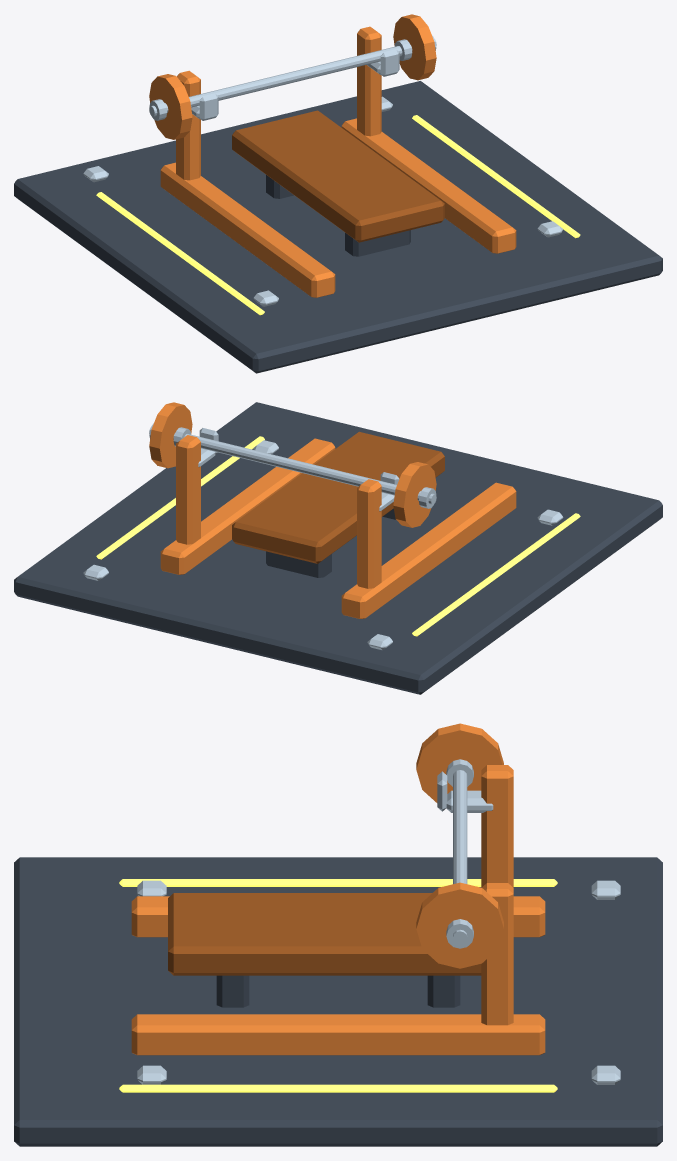
Rendered from Industrial.fbx.
The picture shows the model from 3 angles, top to bottom: view 1: azimuth 30°, elevation 25°; view 2: azimuth 150°, elevation 25°; view 3: azimuth 270°, elevation 25°; orthographic projection. The views are drawn at different scales.
Visible parts, largest first — view 1: Body, Barbell; view 2: Body, Barbell; view 3: Body, Barbell.
Boxes of the visible parts, left/top/right/bottom form: Body: left=14, top=26, right=662, bottom=373; Barbell: left=149, top=14, right=436, bottom=139; Body: left=14, top=402, right=662, bottom=694; Barbell: left=149, top=402, right=436, bottom=527; Body: left=14, top=765, right=662, bottom=1146; Barbell: left=416, top=723, right=503, bottom=968.
Size of the model in its own units: 390 by 142 by 400.
